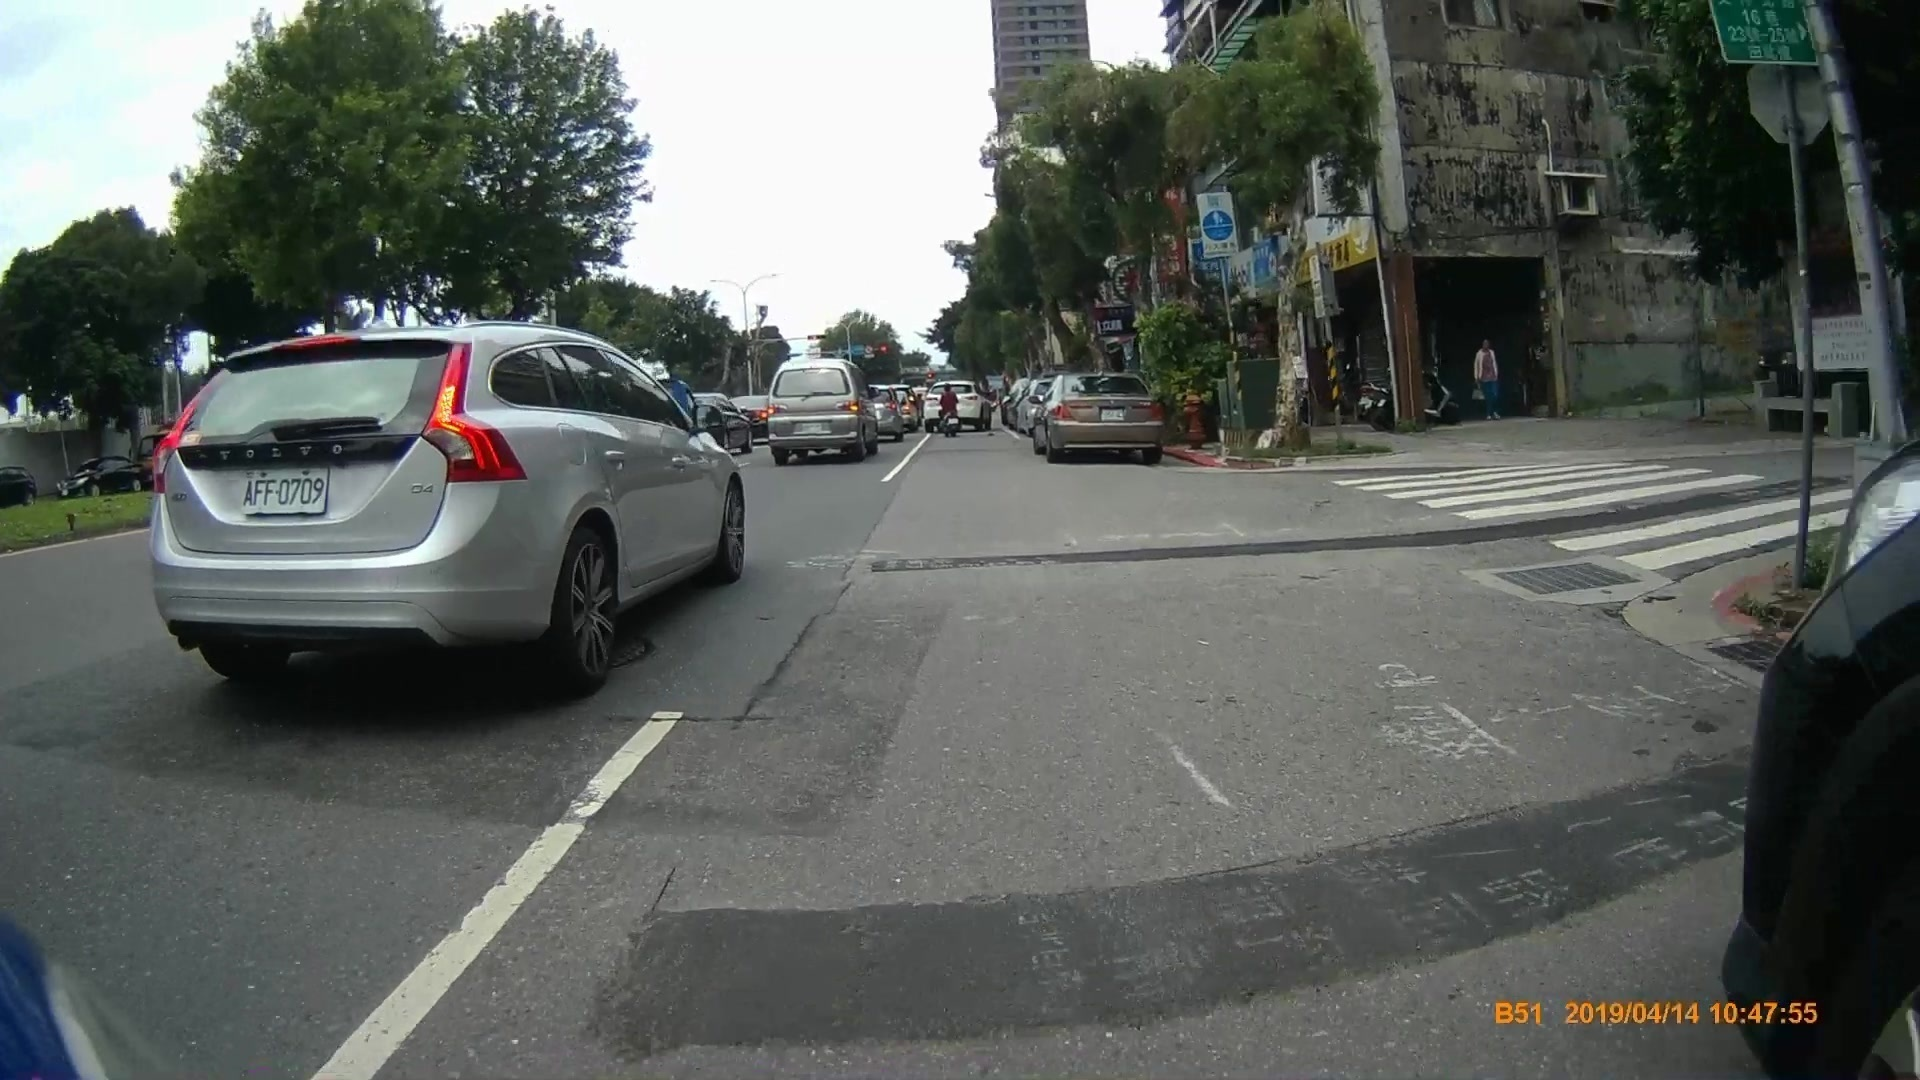License_plate: (241, 469, 328, 518), (1100, 406, 1128, 422)
